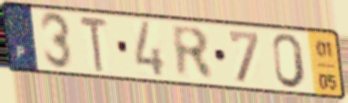0: (271, 32, 308, 91)
3: (38, 9, 75, 75)
4: (131, 19, 169, 79)
7: (227, 27, 262, 86)
R: (168, 22, 217, 83)
T: (76, 14, 111, 75)
